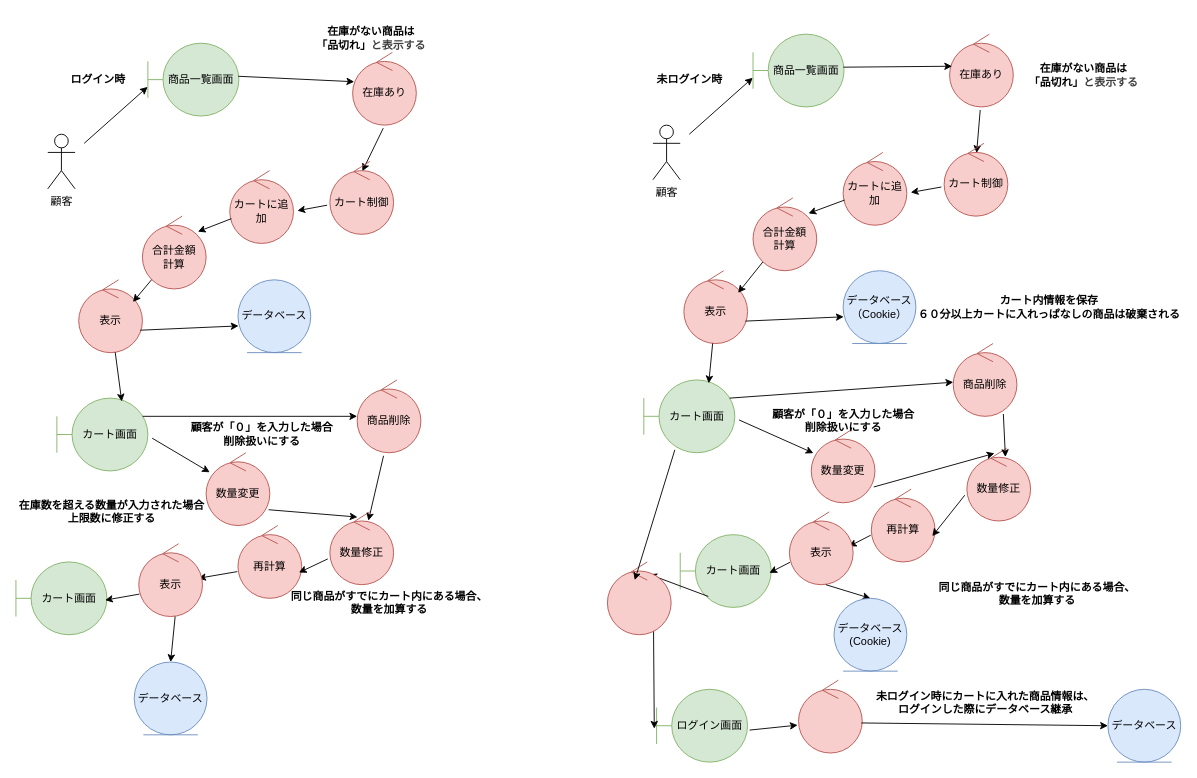
Image size: 1197x778. Some labels were removed from this diagram. Here are the shapes that lost their labels. From the top down, the box of each, then its label:
(607, 561, 671, 635): 決済
(798, 679, 862, 753): 認証成功
